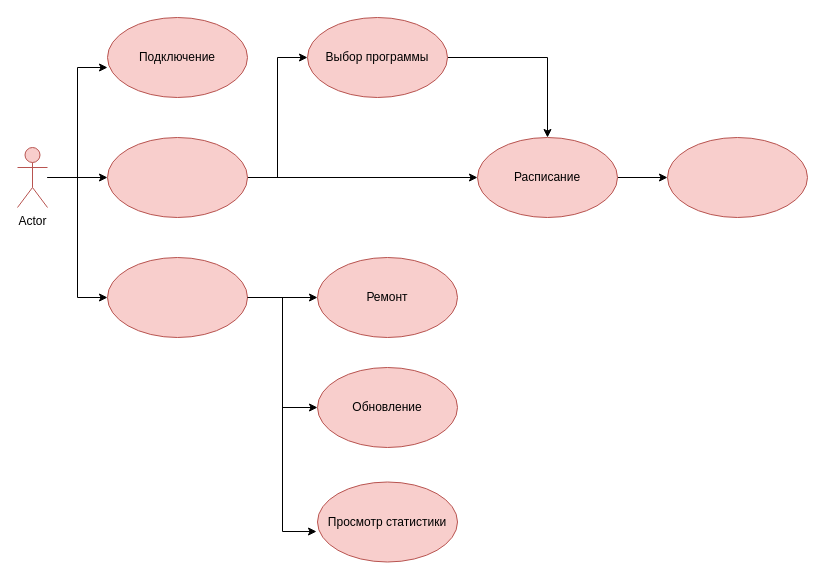
The diagram is 825 pixels wide and 580 high, and some of its shapes have lost their labels. Here are the shapes that lost their labels. From the top down, the centre of each, then its label:
At point 177,177: "Уборка".
At point 737,177: "График".
At point 177,297: "Обслуживание".
